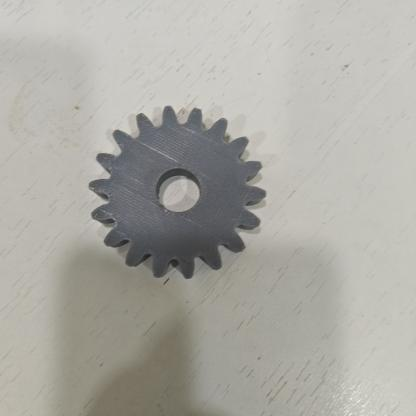gear: (74, 98, 284, 287)
